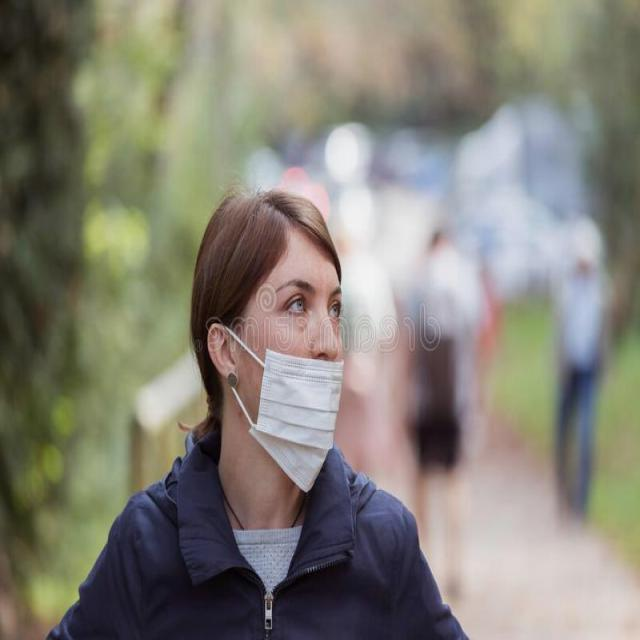hairnet: (187, 191, 344, 464)
